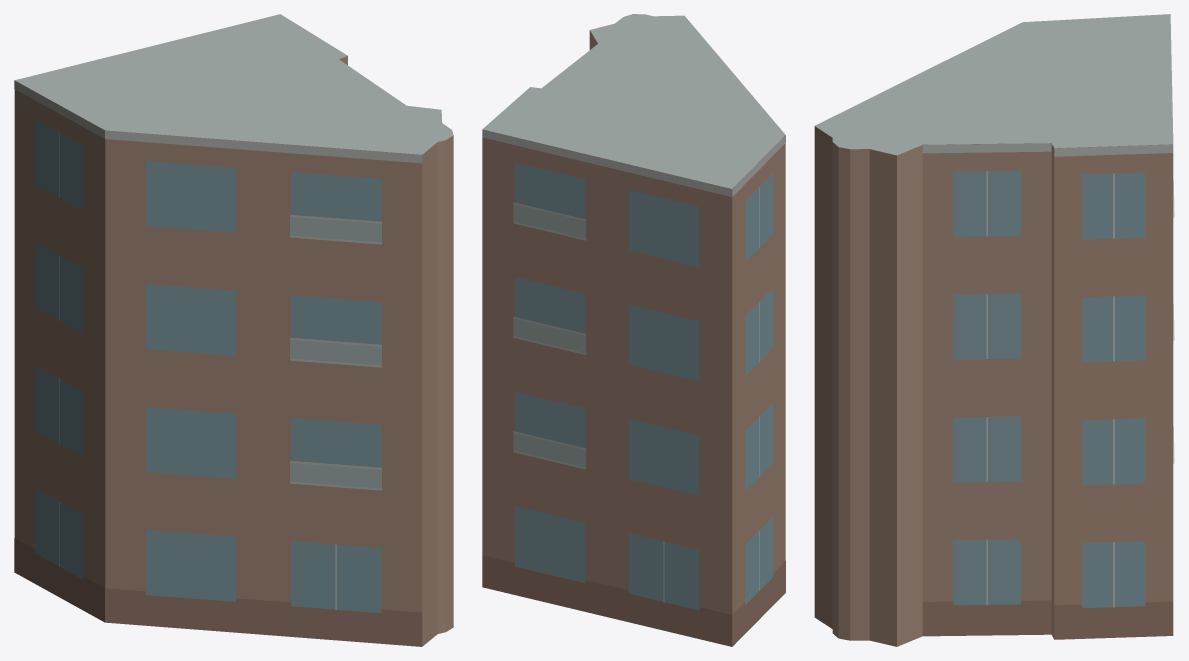
File: survey-upis-32462880.glb
3 renders of one model, left to right at view 1: azimuth 30°, elevation 25°; view 2: azimuth 150°, elevation 25°; view 3: azimuth 270°, elevation 25°, orthographic. The views are drawn at different scales.
Parts seen in each view (by area): view 1: survey-upis-32462880.tmp; view 2: survey-upis-32462880.tmp; view 3: survey-upis-32462880.tmp.
Part boxes in pixels (bbox=[...]): survey-upis-32462880.tmp: bbox=[14, 14, 453, 646]; survey-upis-32462880.tmp: bbox=[482, 14, 785, 646]; survey-upis-32462880.tmp: bbox=[814, 14, 1174, 646].
Size of the model in its own units: 8.58 by 13.9 by 9.23.
